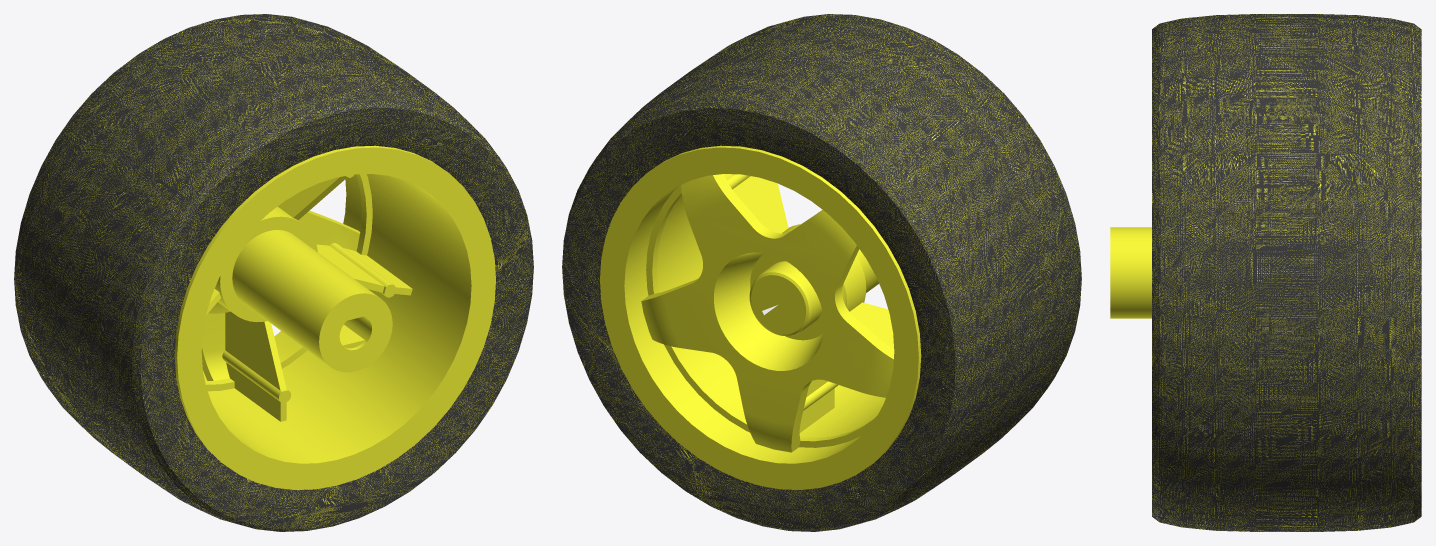
The model's file is MY_LEFT_WHEEL.dae.
3 views of the same model, side by side, from view 1: azimuth 30°, elevation 25°; view 2: azimuth 150°, elevation 25°; view 3: azimuth 270°, elevation 25° (orthographic). The views are drawn at different scales.
Parts seen in each view (by area): view 1: group_0 (×6), OuterShell (×4), Component_7 (×3); view 2: group_0 (×6), OuterShell (×4), Component_7 (×3); view 3: group_0, OuterShell.
Part boxes in pixels (x1,y1,x2,y2): group_0 (×6): (14,14,533,531); OuterShell (×4): (201,206,392,380); Component_7 (×3): (222,174,412,421); group_0 (×6): (562,14,1081,531); OuterShell (×4): (641,174,894,452); Component_7 (×3): (724,174,893,432); group_0: (1152,14,1421,531); OuterShell: (1110,227,1151,318).
Bounding box in the file's own units: 3.94 × 2.36 × 3.94.
